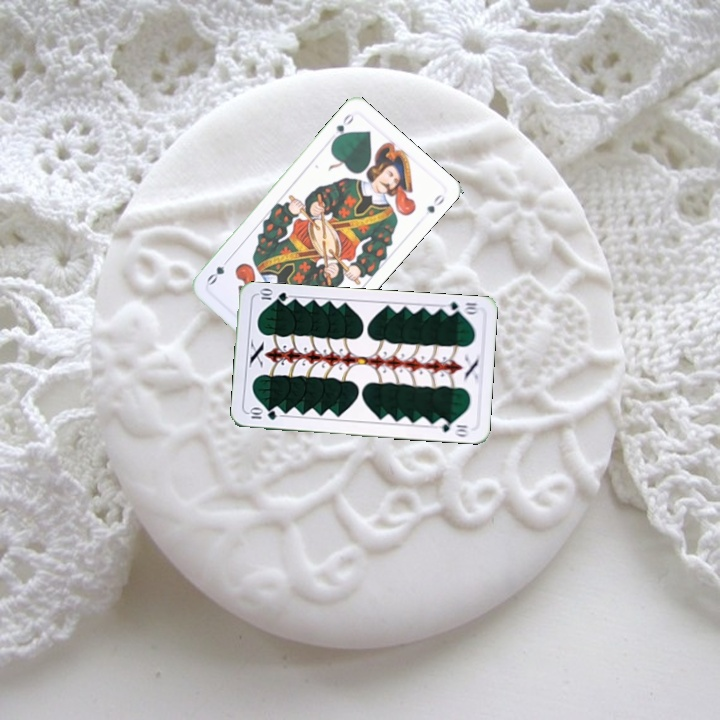G10: (440, 298, 481, 318), (245, 406, 279, 422)
GO: (328, 109, 357, 145)
